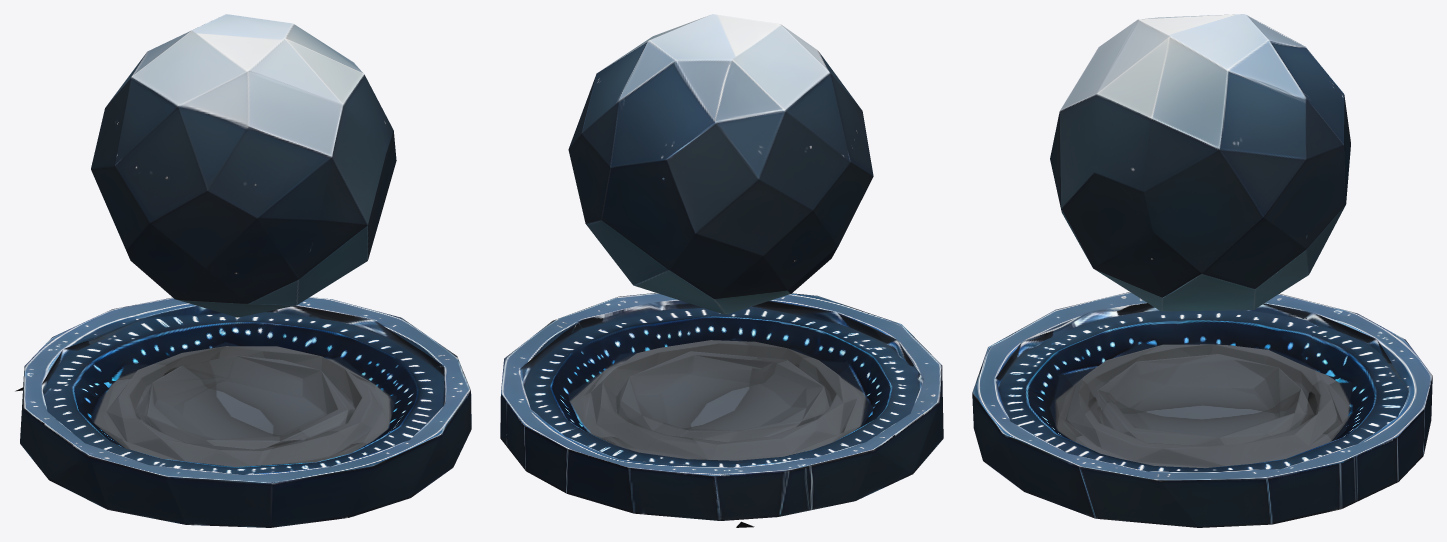
Rendered from base_basic_shaded.glb.
3 views of the same model, side by side, from view 1: azimuth 30°, elevation 25°; view 2: azimuth 150°, elevation 25°; view 3: azimuth 270°, elevation 25° (orthographic). The views are drawn at different scales.
Visible parts, largest first — view 1: model; view 2: model; view 3: model.
Boxes of the visible parts, x1,y1,x2,y2 form: model: (15, 14, 471, 527); model: (500, 14, 943, 527); model: (972, 14, 1432, 527).
Bounding box in the file's own units: 1.8 × 1.78 × 1.82.
1 material, 1 textured.
